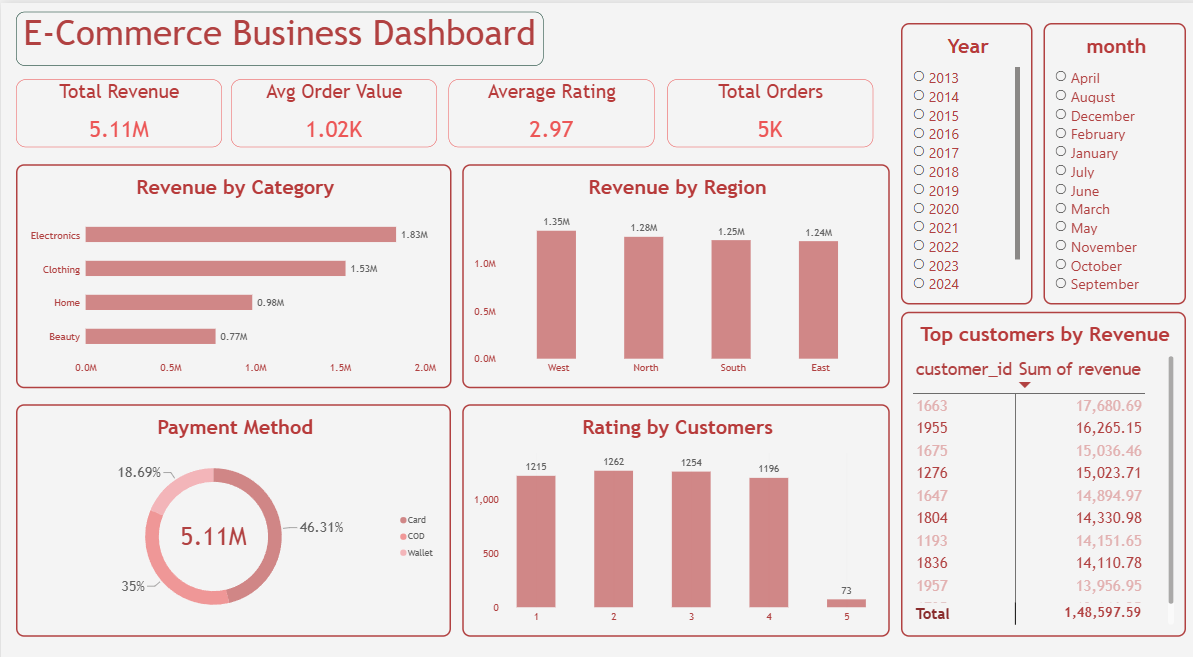

The dashboard page shown, as its layout file describes it:
{"tool":"powerbi","page":{"name":"Overview","canvas":[1920,1080],"ordinal":0},"visuals":[{"type":"textbox","box":[24,14,844,86],"z":0},{"type":"cardVisual","title":"Total  Revenue","fields":{"Data":["Sum(Ecommerce_cleaned_file.revenue)"]},"box":[24,122,329.4,108.6],"z":1000},{"type":"cardVisual","title":"Total Orders","fields":{"Data":["Count(Ecommerce_cleaned_file.order_id)"]},"box":[1066,122,329.4,108.6],"z":2000},{"type":"cardVisual","title":"Average Rating","fields":{"Data":["Avg(Ecommerce_cleaned_file.customer_rating)"]},"box":[716,122,329.4,108.6],"z":3000},{"type":"cardVisual","title":"Avg Order Value","fields":{"Data":["Ecommerce_cleaned_file.Avg_order_value"]},"box":[368,122,329.4,108.6],"z":4000},{"type":"clusteredBarChart","title":"Revenue by Category","fields":{"Category":["Ecommerce_cleaned_file.product_category"],"Y":["Sum(Ecommerce_cleaned_file.revenue)"]},"box":[24,258,696.7,358.3],"z":5000},{"type":"clusteredColumnChart","title":"Revenue by Region","fields":{"Category":["Ecommerce_cleaned_file.region"],"Y":["Sum(Ecommerce_cleaned_file.revenue)"]},"box":[738,258,684.1,358.3],"z":6000},{"type":"donutChart","title":"Payment Method","fields":{"Category":["Ecommerce_cleaned_file.payment_method"],"Y":["Sum(Ecommerce_cleaned_file.revenue)"]},"box":[24,642,696,372],"z":7000},{"type":"clusteredColumnChart","title":"Rating by Customers","fields":{"Category":["Ecommerce_cleaned_file.customer_rating (bins)"],"Y":["Count(Ecommerce_cleaned_file.order_id)"]},"box":[738,642,684,372],"z":8000},{"type":"pivotTable","title":"Top customers by Revenue","fields":{"Rows":["Ecommerce_cleaned_file.customer_id"],"Values":["Sum(Ecommerce_cleaned_file.revenue)"]},"box":[1440,494,456,520],"z":9000},{"type":"listSlicer","fields":{"Values":["Ecommerce_cleaned_file.month"]},"box":[1668,32,228,450],"z":10000},{"type":"listSlicer","title":"Year","fields":{"Values":["Ecommerce_cleaned_file.order_date.Variation.Date Hierarchy.Year"]},"box":[1440,32,210,450],"z":11000}]}

Visuals, with their boxes in screenshot pixels (x1, y1, x2, y2), scaled from the page's 1920x1080 canvas onto the 1193x657 screenshot:
textbox: (15,9,539,61)
"Total  Revenue" cardVisual: (15,74,220,140)
"Total Orders" cardVisual: (662,74,867,140)
"Average Rating" cardVisual: (445,74,650,140)
"Avg Order Value" cardVisual: (229,74,433,140)
"Revenue by Category" clusteredBarChart: (15,157,448,375)
"Revenue by Region" clusteredColumnChart: (459,157,884,375)
"Payment Method" donutChart: (15,391,447,617)
"Rating by Customers" clusteredColumnChart: (459,391,884,617)
"Top customers by Revenue" pivotTable: (895,301,1178,617)
listSlicer - Ecommerce_cleaned_file.month: (1036,19,1178,293)
"Year" listSlicer: (895,19,1025,293)
